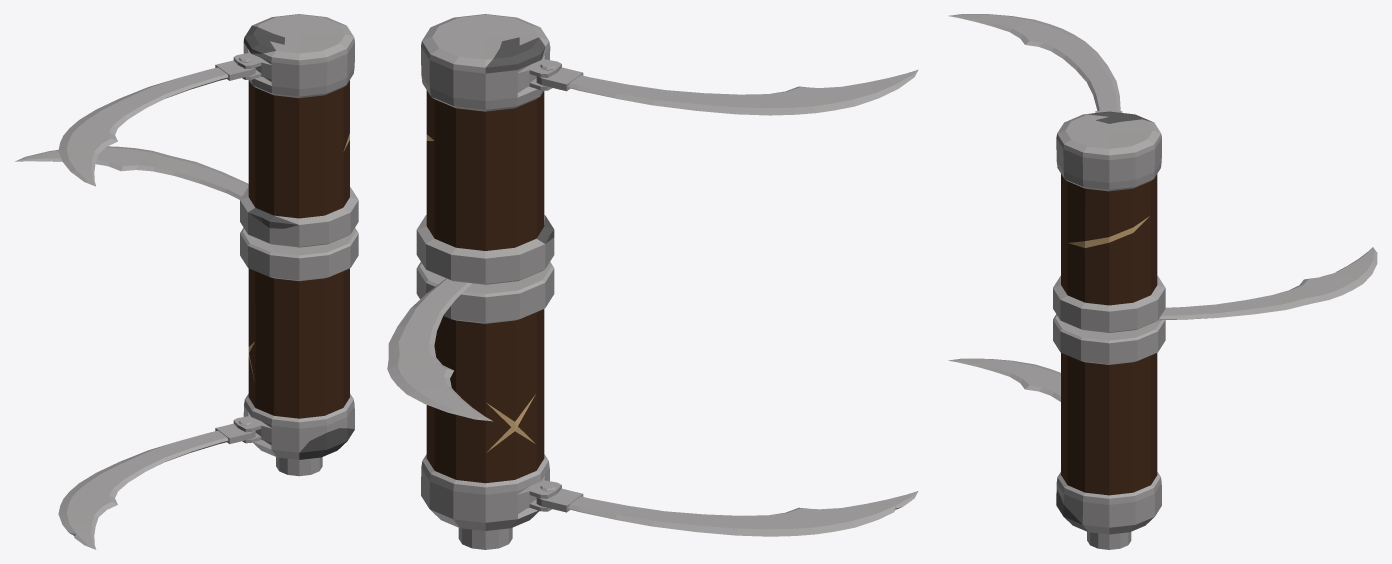
The model's file is LGEBladeSpinning_2.fbx.
3 renders of one model, left to right at view 1: azimuth 30°, elevation 25°; view 2: azimuth 150°, elevation 25°; view 3: azimuth 270°, elevation 25°, orthographic. The views are drawn at different scales.
Visible parts, largest first — view 1: LGEMetalBladeSpinning, LGEMetalBladeSpinningCentre; view 2: LGEMetalBladeSpinning, LGEMetalBladeSpinningCentre; view 3: LGEMetalBladeSpinning, LGEMetalBladeSpinningCentre.
Boxes of the visible parts, x1,y1,x2,y2 form: LGEMetalBladeSpinning: (58,14,358,549); LGEMetalBladeSpinningCentre: (15,146,248,199); LGEMetalBladeSpinning: (416,14,918,549); LGEMetalBladeSpinningCentre: (387,278,492,421); LGEMetalBladeSpinning: (948,14,1165,549); LGEMetalBladeSpinningCentre: (1158,247,1377,320).
Bounding box in the file's own units: 165 × 198 × 188.
